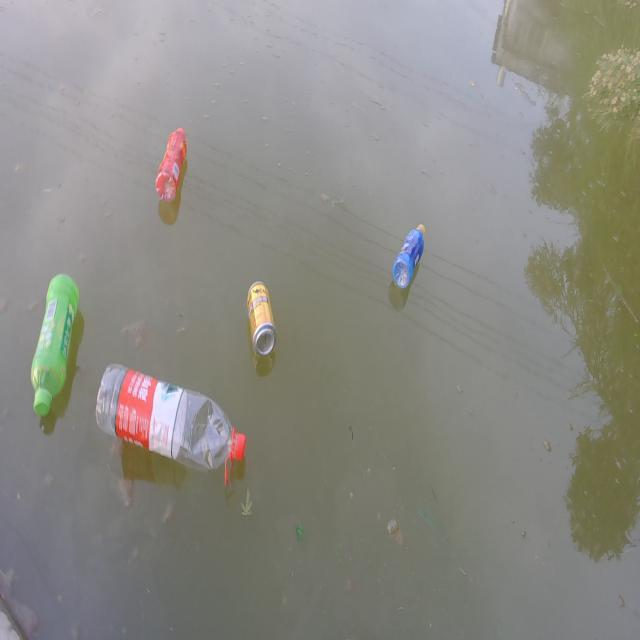bottle: (87, 360, 258, 493), (21, 258, 90, 424), (146, 112, 199, 215), (384, 215, 434, 299)
